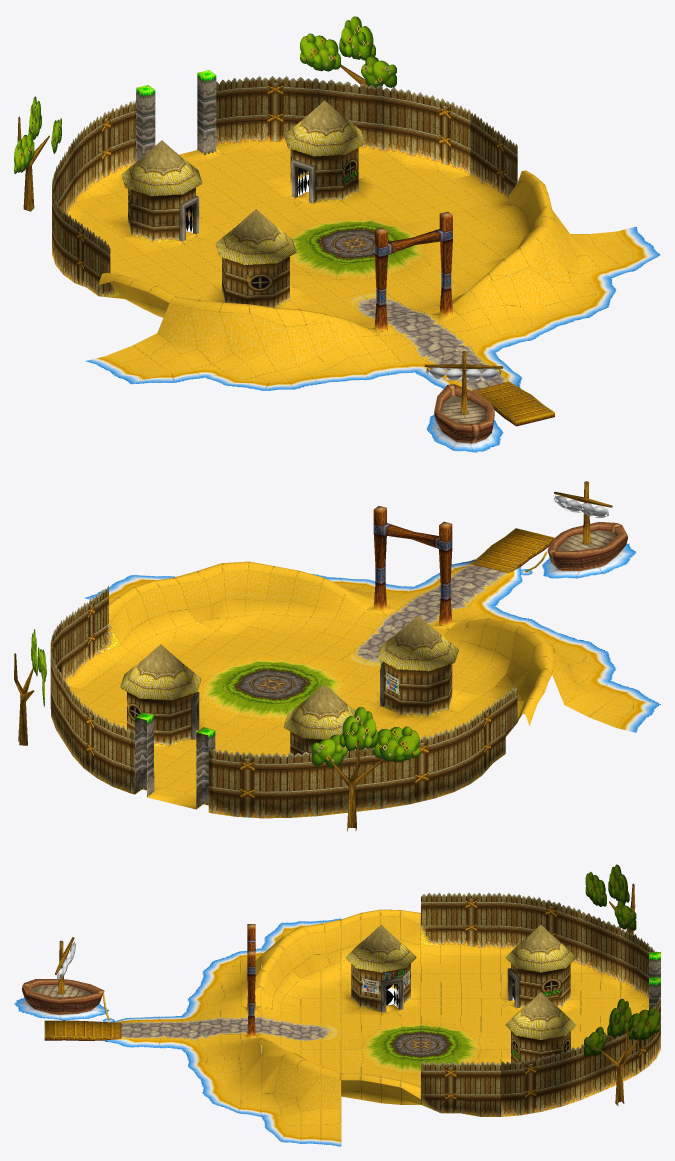
3 renders of one model, top to bottom at view 1: azimuth 30°, elevation 25°; view 2: azimuth 150°, elevation 25°; view 3: azimuth 270°, elevation 25°, orthographic. The views are drawn at different scales.
Visible parts, largest first — view 1: 08b5000_9, 08b5000_3, 08b5000_6, 08b5000_8, 08b5000_29, 08b5000_21, 08b5000_16, 08b5000_14, 08b5000_4, 08b5000_28, 08b5000_1, 08b5000_30 (+23 smaller); view 2: 08b5000_16, 08b5000_0, 08b5000_24, 08b5000_1, 08b5000_19, 08b5000_8, 08b5000_29, 08b5000_14, 08b5000_25, 08b5000_33, 08b5000_5, 08b5000_2 (+22 smaller); view 3: 08b5000_10, 08b5000_16, 08b5000_6, 08b5000_25, 08b5000_9, 08b5000_0, 08b5000_4, 08b5000_14, 08b5000_5, 08b5000_22, 08b5000_33, 08b5000_29 (+23 smaller).
Part boxes in pixels (x1,y1,x2,y2): 08b5000_9: (358, 87, 470, 194); 08b5000_3: (216, 76, 318, 180); 08b5000_6: (98, 140, 225, 254); 08b5000_8: (261, 100, 388, 214); 08b5000_29: (368, 211, 494, 372); 08b5000_21: (157, 297, 285, 377); 08b5000_16: (192, 209, 319, 309); 08b5000_14: (389, 113, 517, 229); 08b5000_4: (300, 16, 396, 156); 08b5000_28: (286, 315, 413, 383); 08b5000_1: (74, 101, 131, 220); 08b5000_30: (452, 267, 564, 352); 08b5000_16: (354, 615, 482, 729); 08b5000_0: (311, 707, 419, 831); 08b5000_24: (238, 566, 366, 655); 08b5000_1: (212, 748, 317, 818); 08b5000_19: (109, 578, 237, 669); 08b5000_8: (112, 644, 224, 758); 08b5000_29: (367, 506, 494, 630); 08b5000_14: (62, 585, 144, 700); 08b5000_25: (173, 561, 274, 635); 08b5000_33: (520, 481, 635, 578); 08b5000_5: (382, 721, 469, 808); 08b5000_2: (131, 712, 215, 813); 08b5000_10: (421, 892, 500, 981); 08b5000_16: (341, 924, 420, 1015); 08b5000_6: (501, 924, 580, 1015); 08b5000_25: (261, 1048, 341, 1116); 08b5000_9: (501, 1047, 580, 1116); 08b5000_0: (581, 864, 636, 981); 08b5000_4: (581, 998, 660, 1105); 08b5000_14: (421, 1061, 500, 1116); 08b5000_5: (501, 893, 580, 981); 08b5000_22: (261, 946, 341, 1015); 08b5000_33: (14, 937, 114, 1022); 08b5000_29: (181, 924, 261, 1049).
Size of the model in its own units: 27.07 by 5.52 by 32.38.
1 material, 1 textured.
